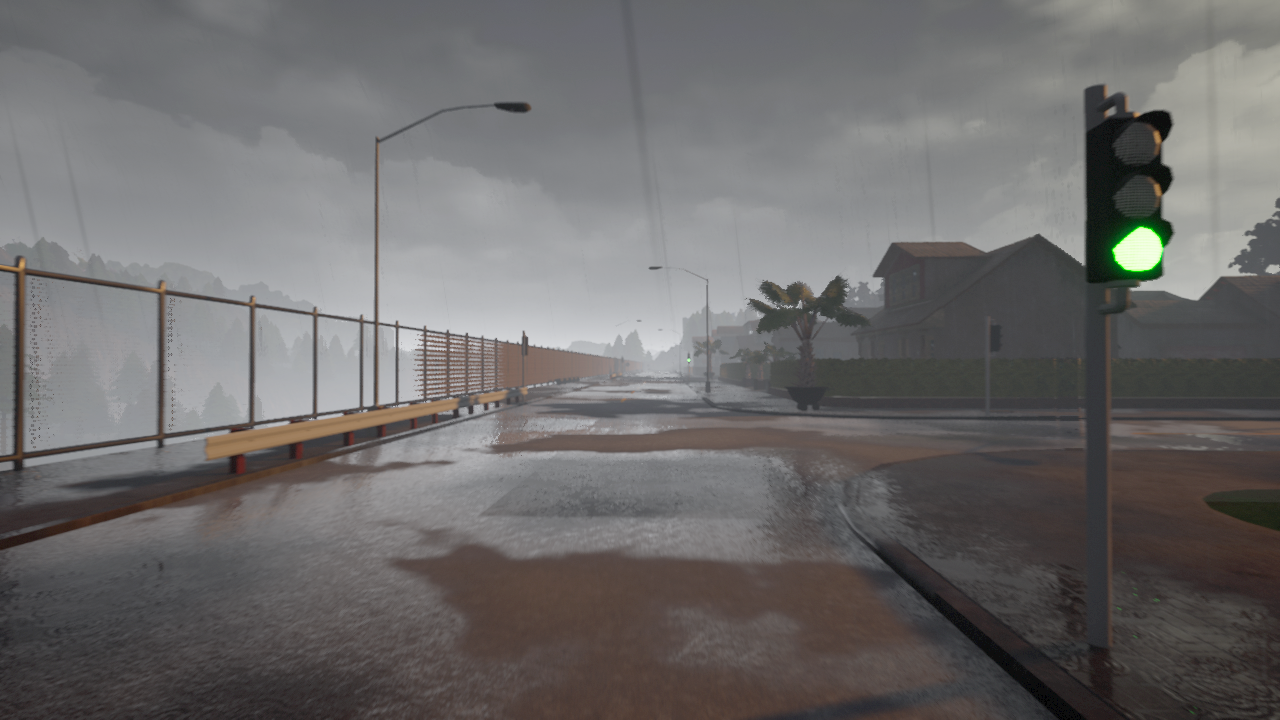green: (1085, 110, 1175, 283)
